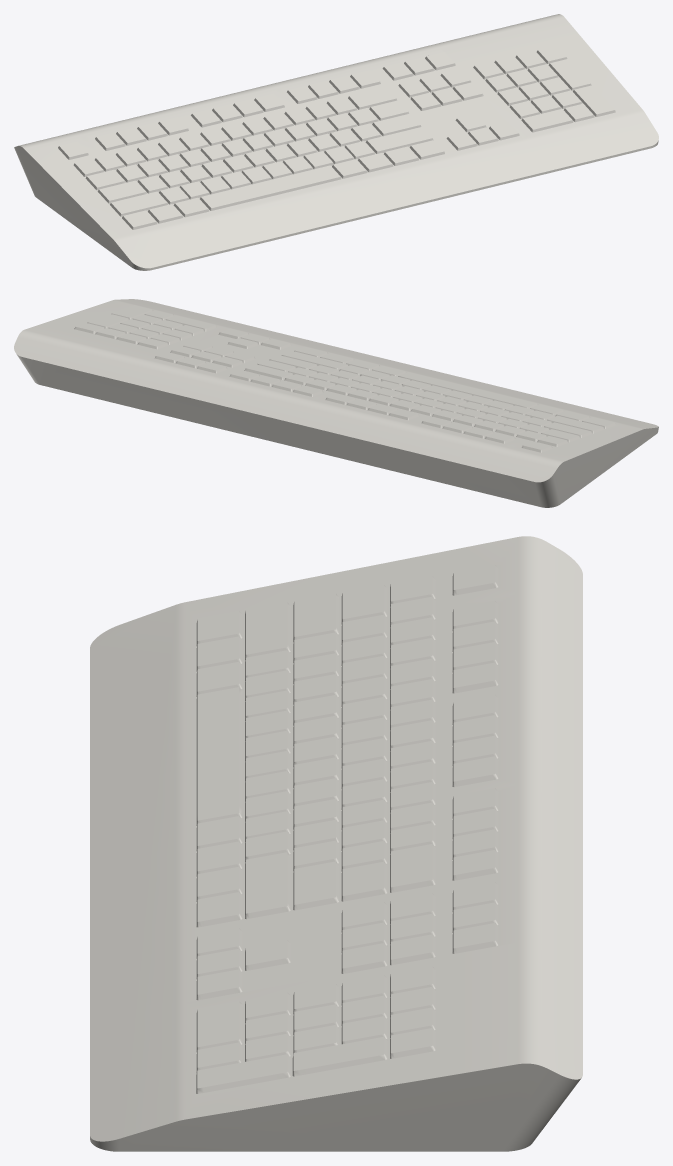
File: Keyboard1.glb
3 renders of one model, top to bottom at view 1: azimuth 30°, elevation 25°; view 2: azimuth 150°, elevation 25°; view 3: azimuth 270°, elevation 25°, orthographic. The views are drawn at different scales.
Visible parts, largest first — view 1: node_id30; view 2: node_id30; view 3: node_id30.
Boxes of the visible parts, box(x1,y1,x2,y2) form: node_id30: box(14, 14, 658, 270); node_id30: box(14, 299, 658, 507); node_id30: box(90, 536, 582, 1151).
Size of the model in its own units: 0.512 by 0.0436 by 0.2023.
1 material, 1 textured.
